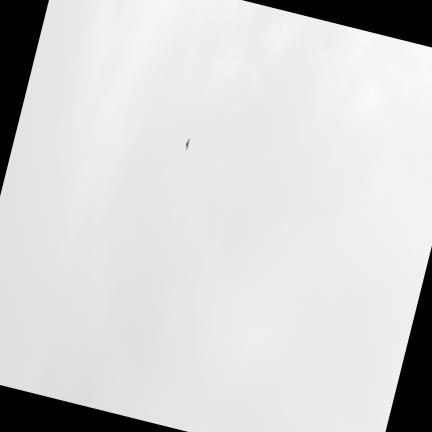Shahed: (184, 138, 189, 149)
